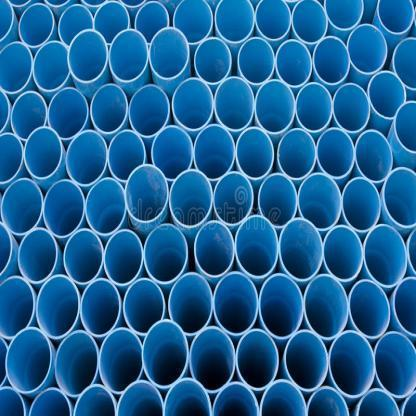pipe: (142, 320, 189, 389), (6, 326, 53, 394), (329, 330, 375, 399), (190, 326, 236, 394), (55, 330, 100, 398), (99, 327, 144, 394), (259, 273, 304, 339), (279, 218, 324, 283), (213, 271, 258, 336), (305, 274, 349, 340), (363, 224, 408, 288), (36, 274, 80, 339), (168, 273, 213, 336), (374, 331, 416, 398), (235, 215, 279, 278), (144, 224, 189, 284), (285, 329, 328, 391), (237, 329, 279, 391), (125, 164, 169, 223), (170, 169, 214, 228), (298, 173, 342, 231), (44, 180, 86, 239), (349, 280, 391, 339), (1, 178, 44, 235), (85, 178, 127, 236), (123, 278, 165, 336), (80, 279, 121, 337), (194, 220, 234, 279), (66, 130, 108, 186), (0, 275, 36, 340), (194, 124, 235, 181), (323, 225, 364, 282), (152, 125, 194, 180), (255, 79, 296, 135), (18, 227, 58, 284), (64, 228, 104, 285), (67, 29, 108, 84), (342, 177, 382, 233), (172, 78, 214, 131), (104, 229, 143, 286), (129, 84, 170, 138), (215, 77, 255, 132), (48, 87, 89, 140), (149, 27, 190, 80), (258, 173, 297, 228), (214, 172, 254, 225), (109, 29, 148, 83), (24, 126, 63, 179), (355, 129, 393, 183), (383, 166, 416, 228), (236, 127, 274, 180), (108, 130, 146, 183), (347, 25, 387, 75), (317, 128, 356, 179), (277, 129, 316, 180), (295, 82, 333, 133), (368, 71, 407, 120), (333, 83, 371, 133), (90, 84, 128, 134), (33, 41, 70, 92), (11, 90, 48, 140), (173, 0, 214, 45), (164, 378, 212, 416), (313, 37, 350, 86), (195, 37, 232, 85), (275, 40, 312, 87), (259, 380, 307, 416), (116, 380, 164, 416), (238, 37, 274, 85), (215, 0, 255, 43), (0, 42, 33, 94), (212, 382, 260, 416), (94, 1, 130, 46), (292, 1, 328, 45), (58, 4, 94, 48), (255, 0, 292, 42), (134, 2, 170, 45), (19, 4, 55, 47), (393, 276, 416, 337), (73, 384, 116, 415), (392, 38, 416, 92), (378, 1, 415, 35), (0, 133, 24, 185), (307, 386, 350, 415), (393, 100, 416, 154), (28, 387, 72, 415), (325, 1, 365, 31), (357, 388, 401, 415), (0, 386, 26, 416), (0, 222, 12, 275), (0, 0, 15, 42), (0, 87, 10, 138)
